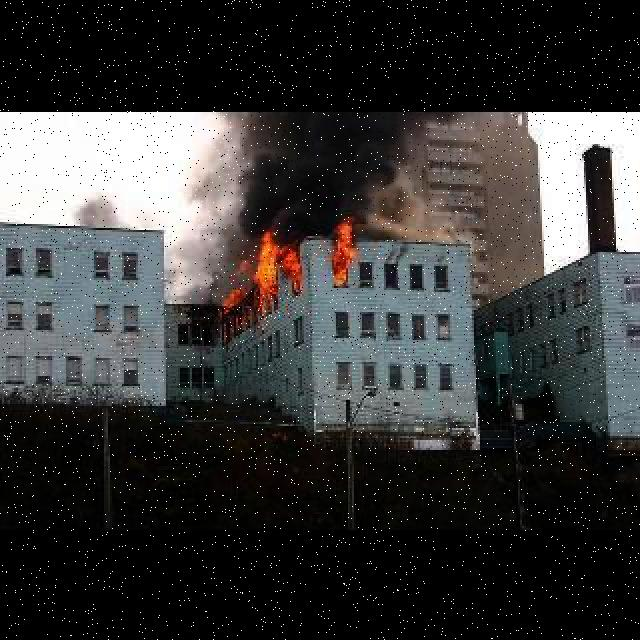fire: (220, 229, 354, 302)
smoke: (219, 113, 444, 227)
